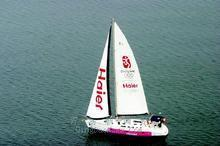fanchuan: (82, 17, 169, 139)
